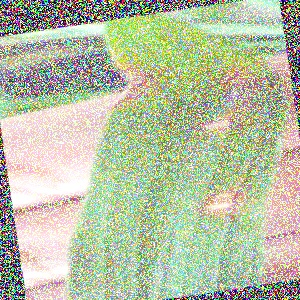Brown_Spot: (102, 53, 160, 114), (188, 105, 241, 148), (222, 63, 269, 90), (219, 85, 261, 115), (201, 198, 246, 220), (206, 179, 248, 201)
